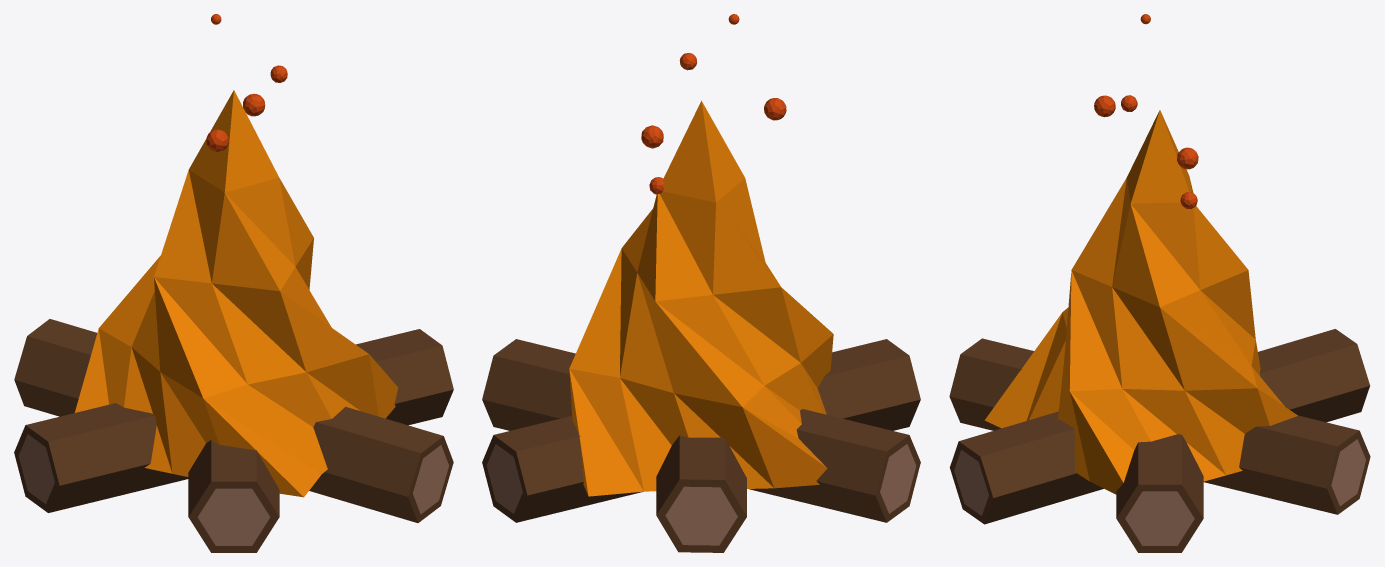
The model's file is fire.dae.
3 views of the same model, side by side, from view 1: azimuth 30°, elevation 25°; view 2: azimuth 150°, elevation 25°; view 3: azimuth 270°, elevation 25° (orthographic). The views are drawn at different scales.
Parts seen in each view (by area): view 1: Cone, Cylinder, Cylinder_002, Cylinder_001, Icosphere_003; view 2: Cone, Cylinder, Cylinder_001, Cylinder_002, Icosphere_003; view 3: Cone, Cylinder_002, Cylinder_001, Cylinder, Icosphere_003.
Part boxes in pixels (box(x1,y1,x2,y2)): Cone: box(74, 90, 398, 497); Cylinder: box(14, 329, 453, 512); Cylinder_002: box(14, 319, 453, 522); Cylinder_001: box(188, 440, 279, 552); Icosphere_003: box(206, 14, 287, 152); Cone: box(569, 100, 833, 496); Cylinder: box(482, 339, 920, 522); Cylinder_001: box(482, 339, 920, 522); Cylinder_002: box(656, 435, 746, 552); Icosphere_003: box(641, 14, 786, 194); Cone: box(984, 110, 1297, 494); Cylinder_002: box(949, 329, 1370, 524); Cylinder_001: box(949, 338, 1370, 514); Cylinder: box(1116, 434, 1203, 552); Icosphere_003: box(1094, 14, 1198, 208).
Size of the model in its own units: 3 by 2.9 by 3.38.
